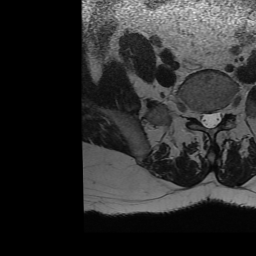CCS_normal: (208, 103, 214, 134)
LFS_normal: (222, 97, 230, 122)
LLS_normal: (214, 102, 222, 132)
RFS_normal: (191, 100, 199, 128)
RLS_normal: (199, 104, 208, 132)
